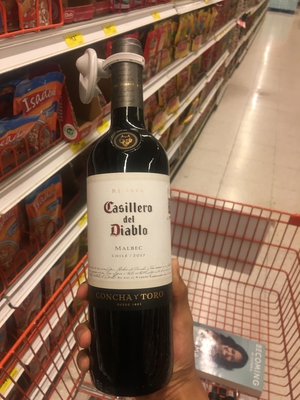casillero del diablo malbec: (63, 33, 181, 384)
